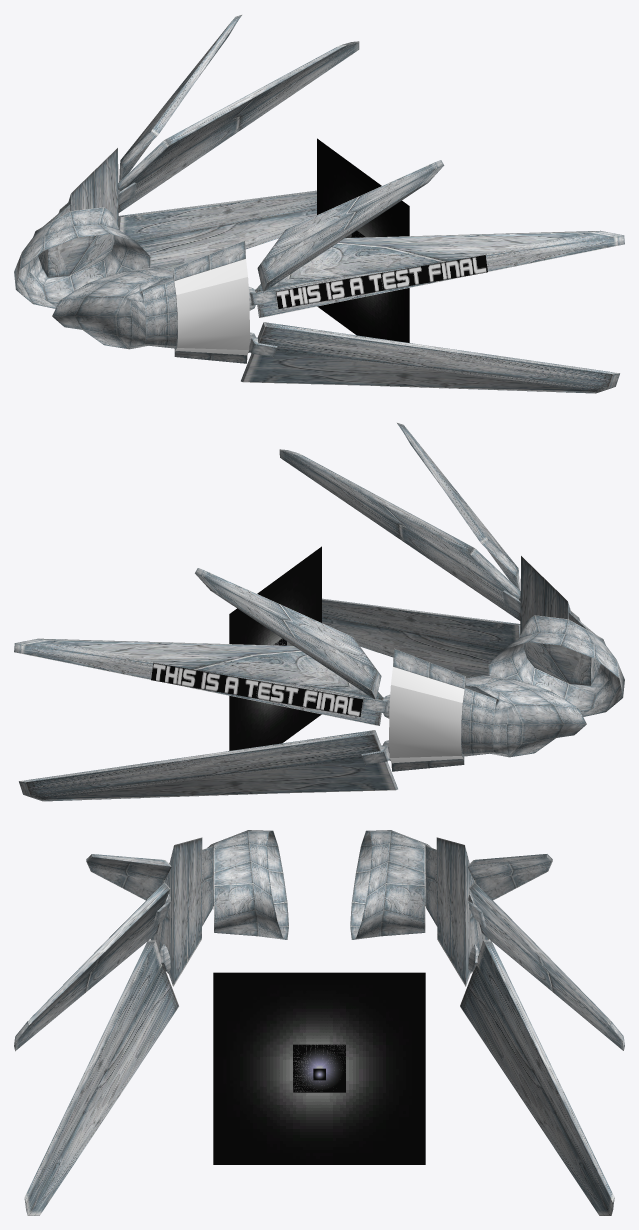
Rendered from sjw13.obj.
The picture shows the model from 3 angles, top to bottom: view 1: azimuth 30°, elevation 25°; view 2: azimuth 150°, elevation 25°; view 3: azimuth 270°, elevation 25°; orthographic projection. The views are drawn at different scales.
Parts seen in each view (by area): view 1: R_FINBOT050, TRADER_WINGBAS0, R_FINTOP050, R_FINBOT040, R_FINTOP040, LFRED010, DECAL010.003, R_FINTOP06+010, R_ROTATE060, NAMEDECAL010, R_ROTATE050, R_FINTOP06+0 (+1 smaller); view 2: R_FINBOT040, TRADER_WINGBAS0, R_FINTOP040, R_FINBOT050, R_FINTOP050, DECAL020, LFRED010, R_FINTOP06+0, LFGREEN010, R_ROTATE050, NAMEDECAL020, R_ROTATE060 (+1 smaller); view 3: LFGREEN010, TRADER_WINGBAS0, LFRED010, R_FINBOT040, R_FINBOT050, R_ROTATE060, R_ROTATE050, R_FINTOP050, R_FINTOP040, R_FINTOP06+010, R_FINTOP06+0.
Boxes of the visible parts, <box> form: R_FINBOT050: <box>241,322,619,393</box>; TRADER_WINGBAS0: <box>14,207,173,349</box>; R_FINTOP050: <box>250,230,624,317</box>; R_FINBOT040: <box>118,190,316,270</box>; R_FINTOP040: <box>118,41,359,212</box>; LFRED010: <box>317,138,409,342</box>; DECAL010.003: <box>174,259,249,355</box>; R_FINTOP06+010: <box>257,160,444,291</box>; R_ROTATE060: <box>142,240,256,363</box>; NAMEDECAL010: <box>275,255,487,308</box>; R_ROTATE050: <box>38,148,120,269</box>; R_FINTOP06+0: <box>119,15,241,181</box>; R_FINBOT040: <box>19,730,397,801</box>; TRADER_WINGBAS0: <box>465,615,624,757</box>; R_FINTOP040: <box>14,638,389,725</box>; R_FINBOT050: <box>322,598,520,678</box>; R_FINTOP050: <box>279,449,520,620</box>; DECAL020: <box>389,667,464,763</box>; LFRED010: <box>229,546,321,750</box>; R_FINTOP06+0: <box>195,568,381,699</box>; LFGREEN010: <box>229,547,321,750</box>; R_ROTATE050: <box>382,648,496,771</box>; NAMEDECAL020: <box>151,663,363,716</box>; R_ROTATE060: <box>519,556,600,677</box>; LFGREEN010: <box>213,972,425,1164</box>; TRADER_WINGBAS0: <box>207,830,431,939</box>; LFRED010: <box>213,972,424,1156</box>; R_FINBOT040: <box>460,940,614,1215</box>; R_FINBOT050: <box>24,940,179,1215</box>; R_ROTATE060: <box>150,837,213,986</box>; R_ROTATE050: <box>425,837,488,986</box>; R_FINTOP050: <box>14,882,170,1051</box>; R_FINTOP040: <box>468,882,624,1050</box>; R_FINTOP06+010: <box>86,854,171,900</box>; R_FINTOP06+0: <box>467,854,552,900</box>.
Size of the model in its own units: 68.47 by 36.92 by 69.08.
Materials: 17 (17 with a texture image).
